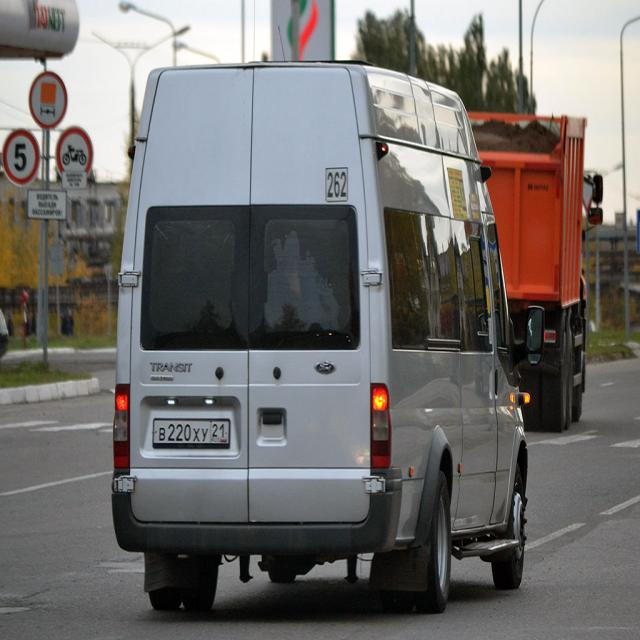number-of-bus: (327, 168, 349, 203)
